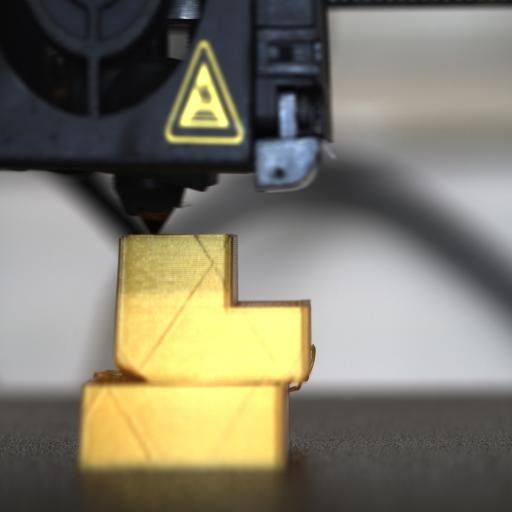layer_shift: (78, 359, 315, 393)
